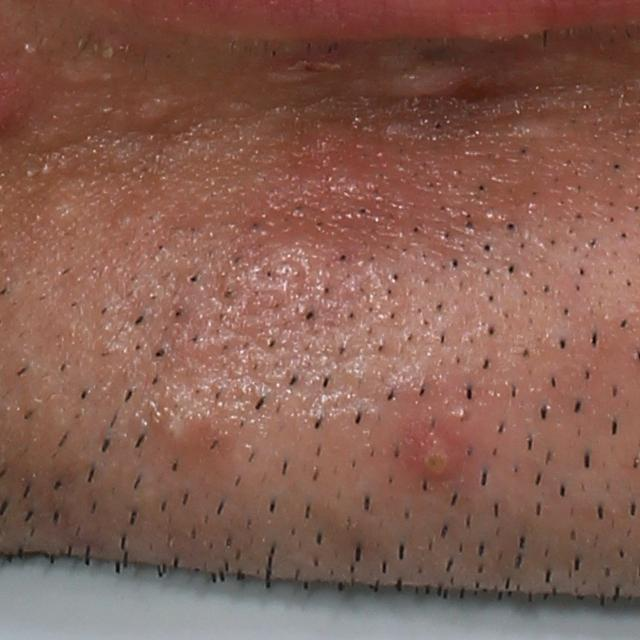hypertrophic_scar: (127, 83, 245, 128), (373, 63, 470, 103), (57, 43, 150, 80), (508, 112, 586, 141)
pustule: (147, 400, 210, 463), (404, 419, 460, 480)
